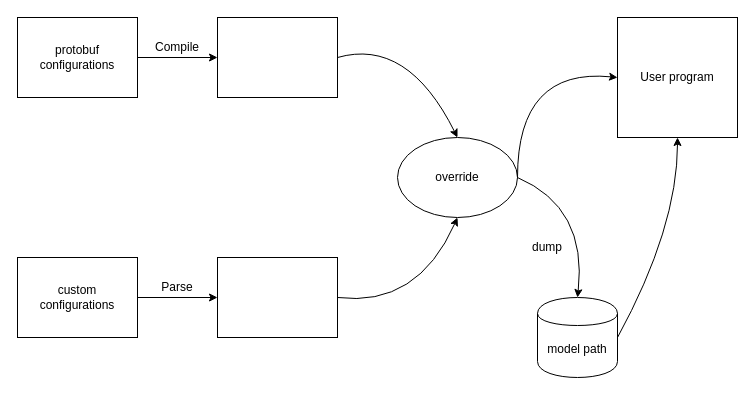
Image size: 755x395. Some labels were removed from this diagram. The shapes that lost their labels are listed below. From the top down, each one's centre as x and y in pixels, then its label:
At pixel 277 57: ".py file".
At pixel 277 297: "user thread".
